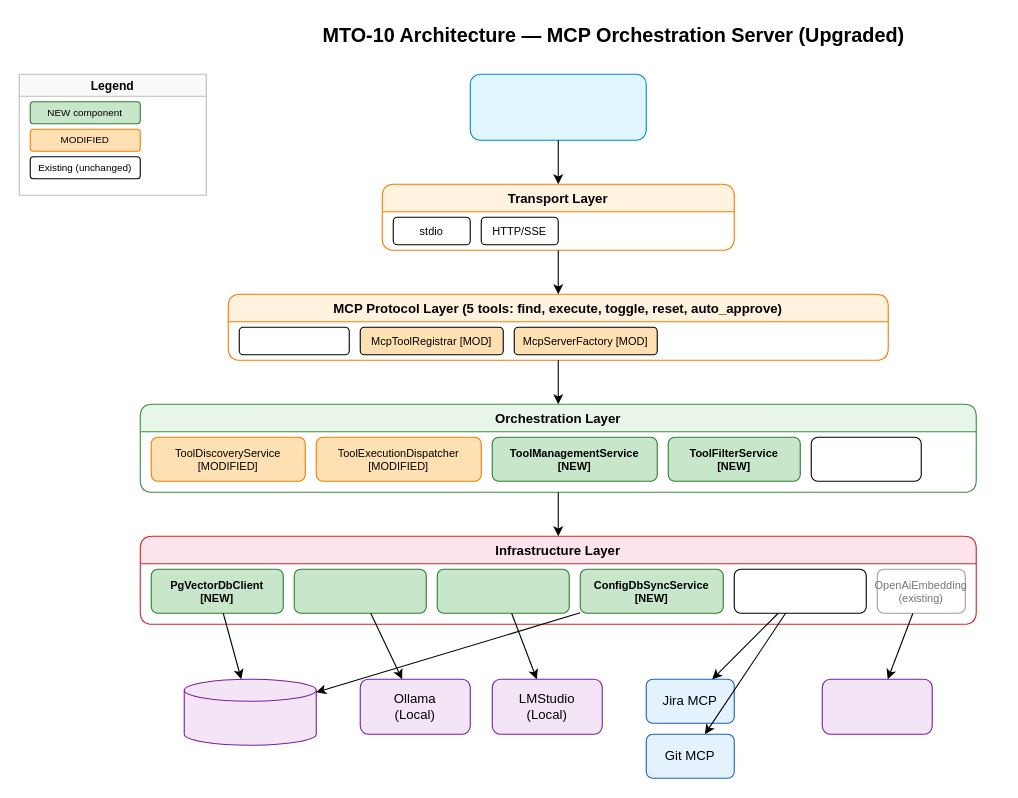
Some shapes in this 1018 by 798 pixel diagram are drawn without their labels. Here are the shapes that lost their labels. From the top down, the centre of each, then its label:
point 557,106: Kiro IDE (AI Agent)
point 293,340: JsonRpcHandler
point 865,458: ToolRegistry
point 359,590: OllamaEmbedding [NEW]
point 502,590: LmStudioEmbedding [NEW]
point 799,590: UpstreamServerMgr
point 249,711: PostgreSQL 16+ pgvector
point 876,706: OpenAI API (Optional)
